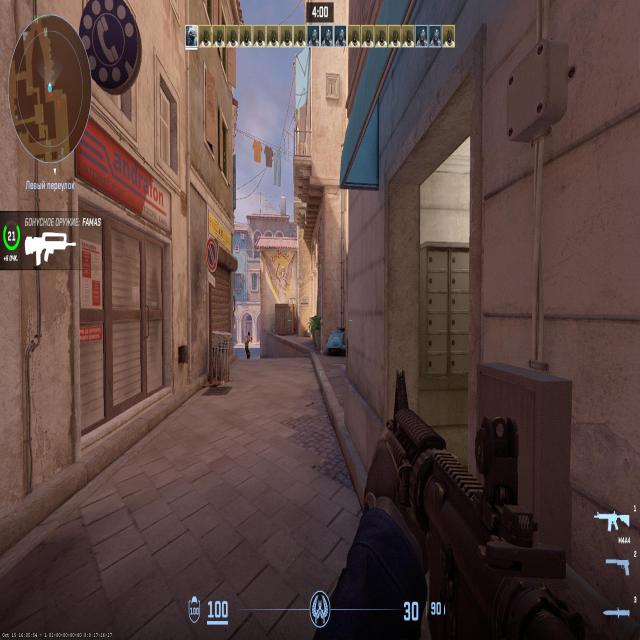T: (247, 332, 252, 360)
T_heat: (248, 334, 250, 337)
